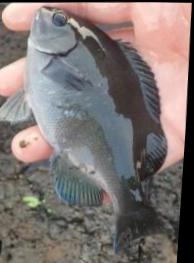fish: (0, 5, 170, 255)
